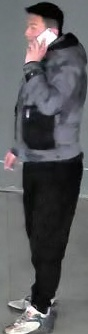phone: (14, 1, 86, 118)
